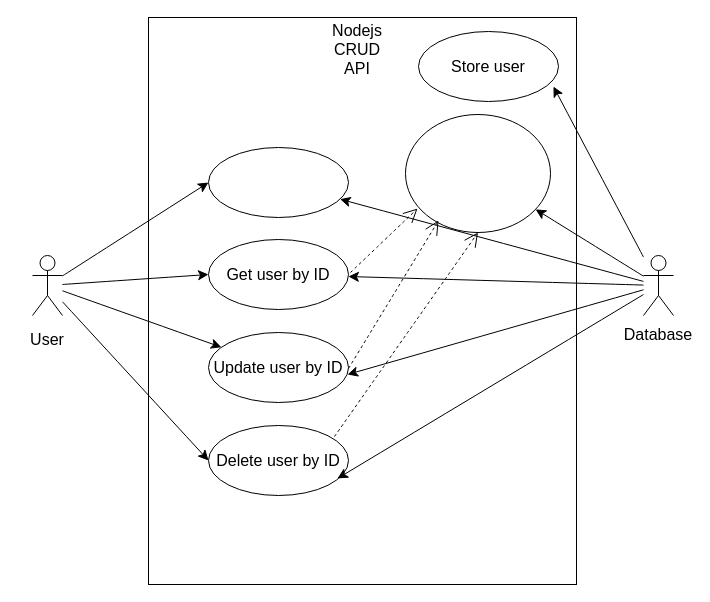
The diagram is 710 pixels wide and 602 high, and some of its shapes have lost their labels. Each missing label, with the centre of its shape:
"Create User" belongs at pixel 278 182.
"Verify if paramater is of type number" belongs at pixel 477 173.
